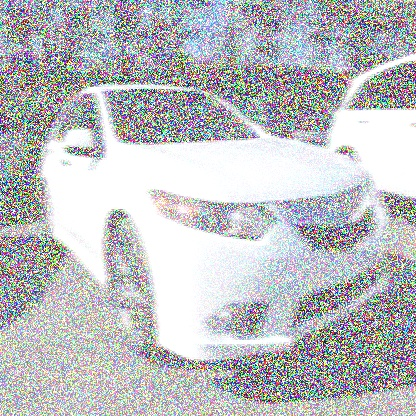Vehicle: (39, 81, 395, 369)
